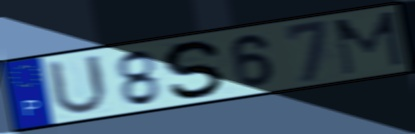6: (229, 31, 276, 90)
7: (282, 16, 332, 85)
8: (112, 46, 163, 108)
M: (332, 8, 407, 78)
S: (161, 39, 228, 100)
U: (44, 52, 111, 118)
